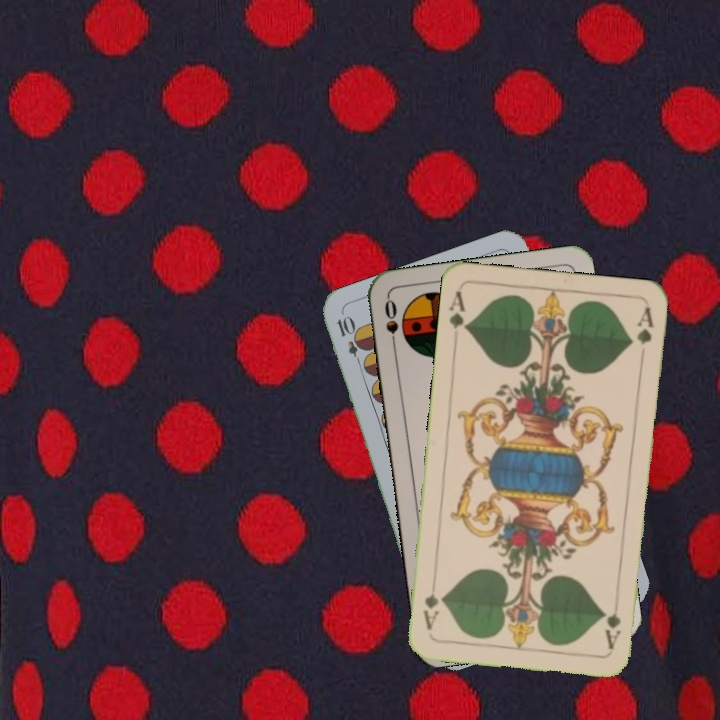E10: (332, 312, 367, 370)
GA: (601, 593, 623, 652), (445, 286, 472, 333)
SO: (380, 295, 401, 354)
